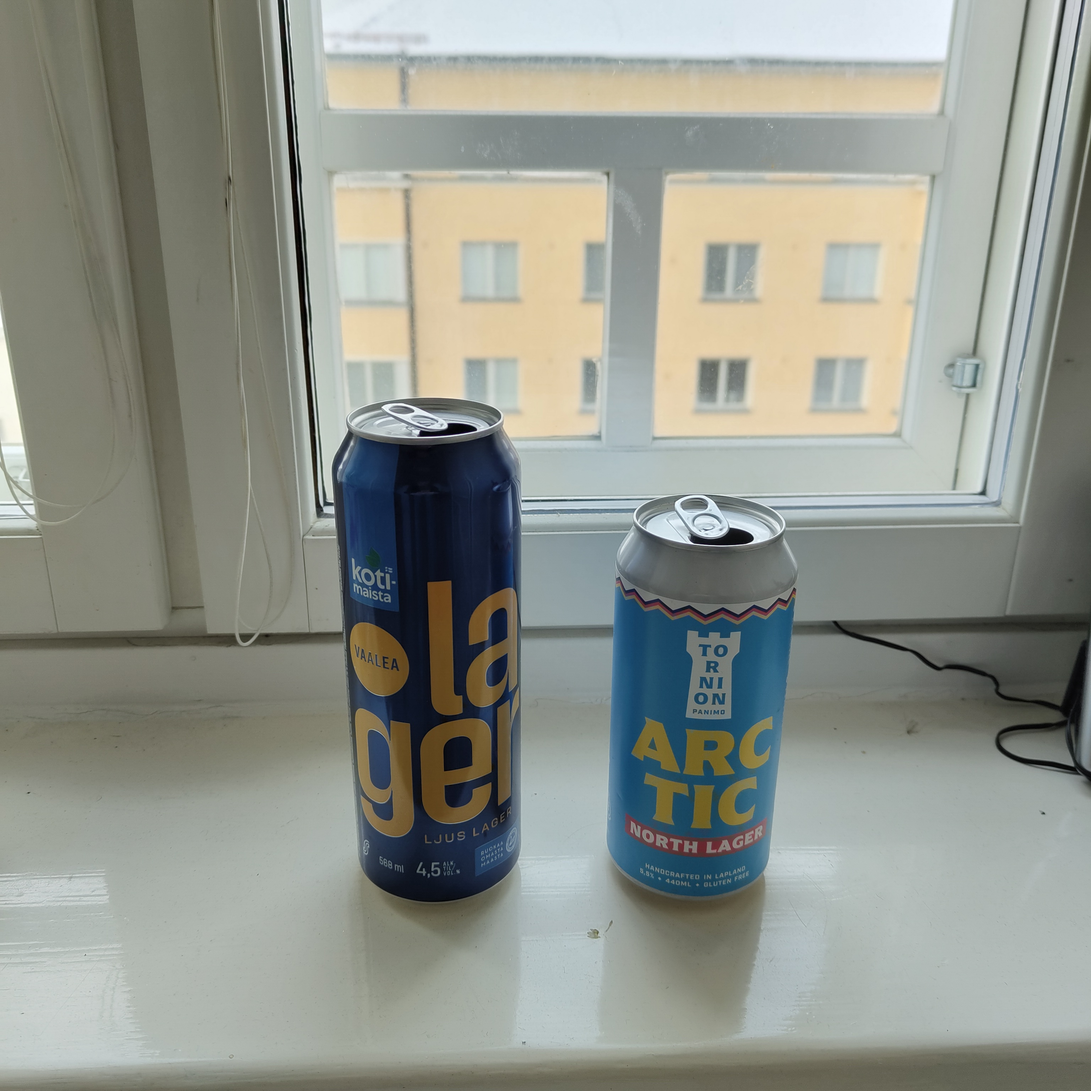Pantburk: (331, 396, 522, 904), (606, 496, 799, 902)
